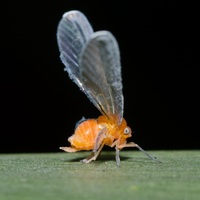insect: (57, 10, 159, 165)
